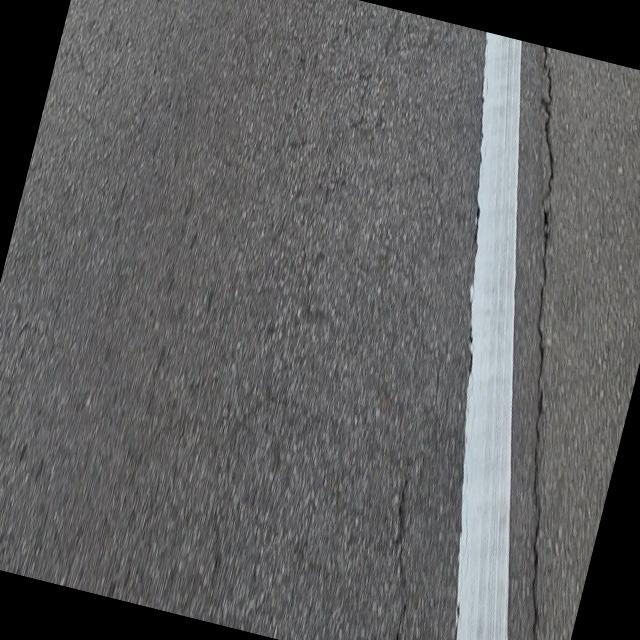Retak-Memanjang: (529, 46, 560, 640)
